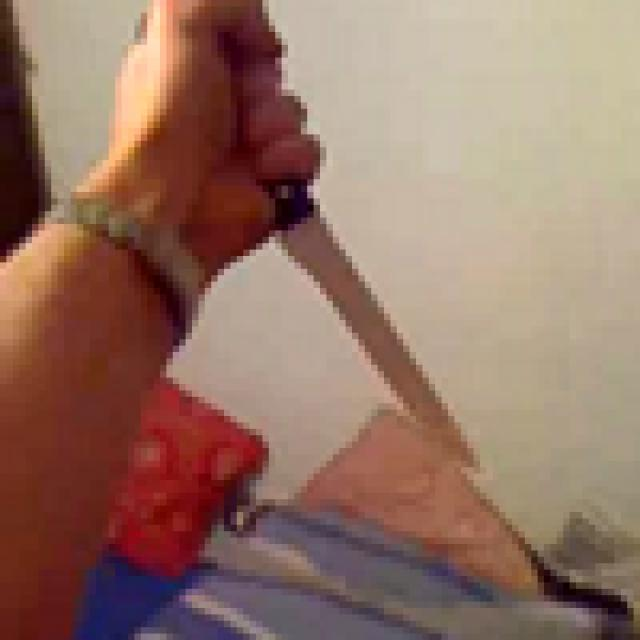Knife: (134, 0, 506, 493)
